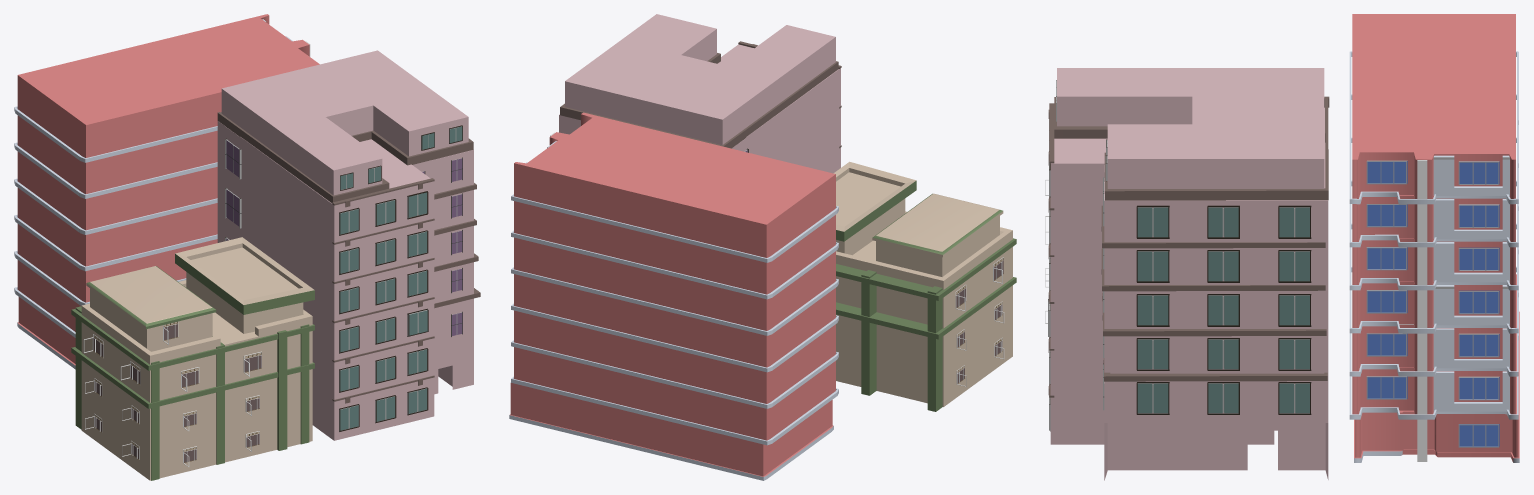
File: Impact Block.glb
3 renders of one model, left to right at view 1: azimuth 30°, elevation 25°; view 2: azimuth 150°, elevation 25°; view 3: azimuth 270°, elevation 25°, orthographic. The views are drawn at different scales.
Parts seen in each view (by area): view 1: pCube256.001; view 2: pCube256.001; view 3: pCube256.001.
Boxes of the visible parts, x1,y1,x2,y2 form: pCube256.001: (14,14,480,480); pCube256.001: (509,14,1016,480); pCube256.001: (1045,14,1519,480).
Bounding box in the file's own units: 28.45 × 20.61 × 27.55.
